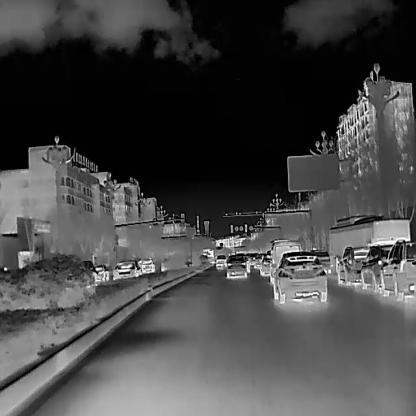car: (328, 216, 410, 276), (272, 251, 326, 303), (377, 238, 415, 300), (359, 242, 394, 290), (335, 245, 374, 286), (269, 238, 300, 284), (65, 259, 96, 289), (111, 260, 140, 279), (225, 254, 246, 277), (201, 246, 214, 266), (259, 252, 270, 275), (94, 263, 108, 281), (140, 258, 154, 273), (214, 254, 227, 269), (252, 253, 261, 268)
